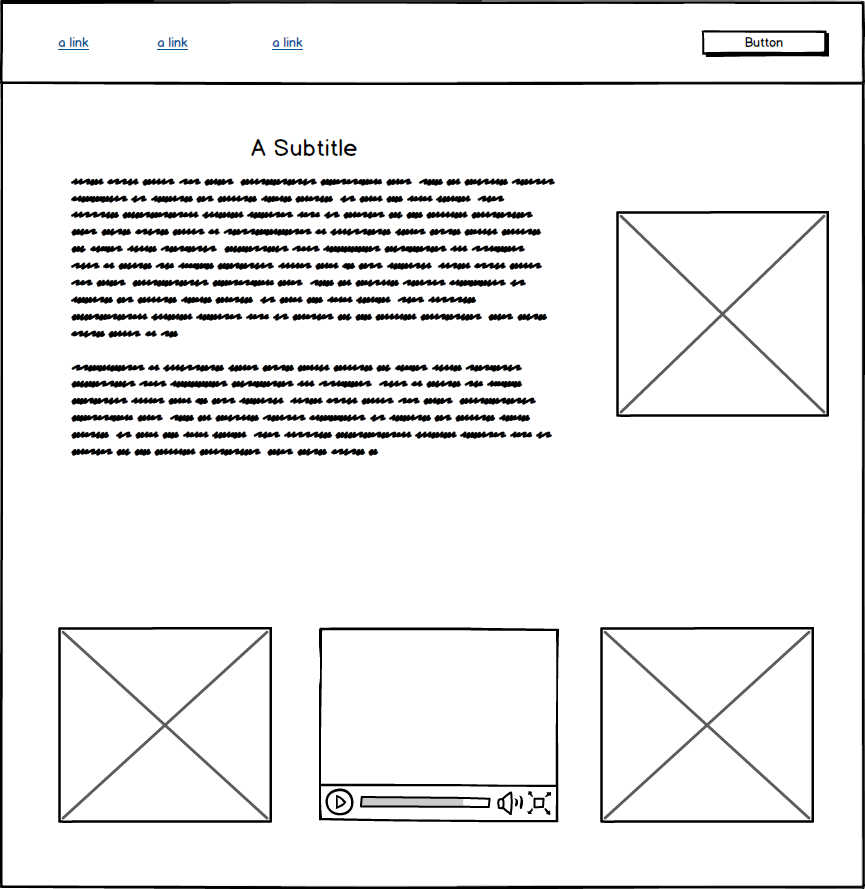button: (698, 21, 834, 63)
h1: (234, 128, 359, 158)
image: (609, 202, 838, 427), (590, 621, 822, 836), (47, 624, 280, 831)
navlink: (51, 31, 98, 58), (153, 33, 195, 56), (268, 35, 310, 56)
p: (61, 170, 564, 469)
video: (310, 621, 563, 833)
